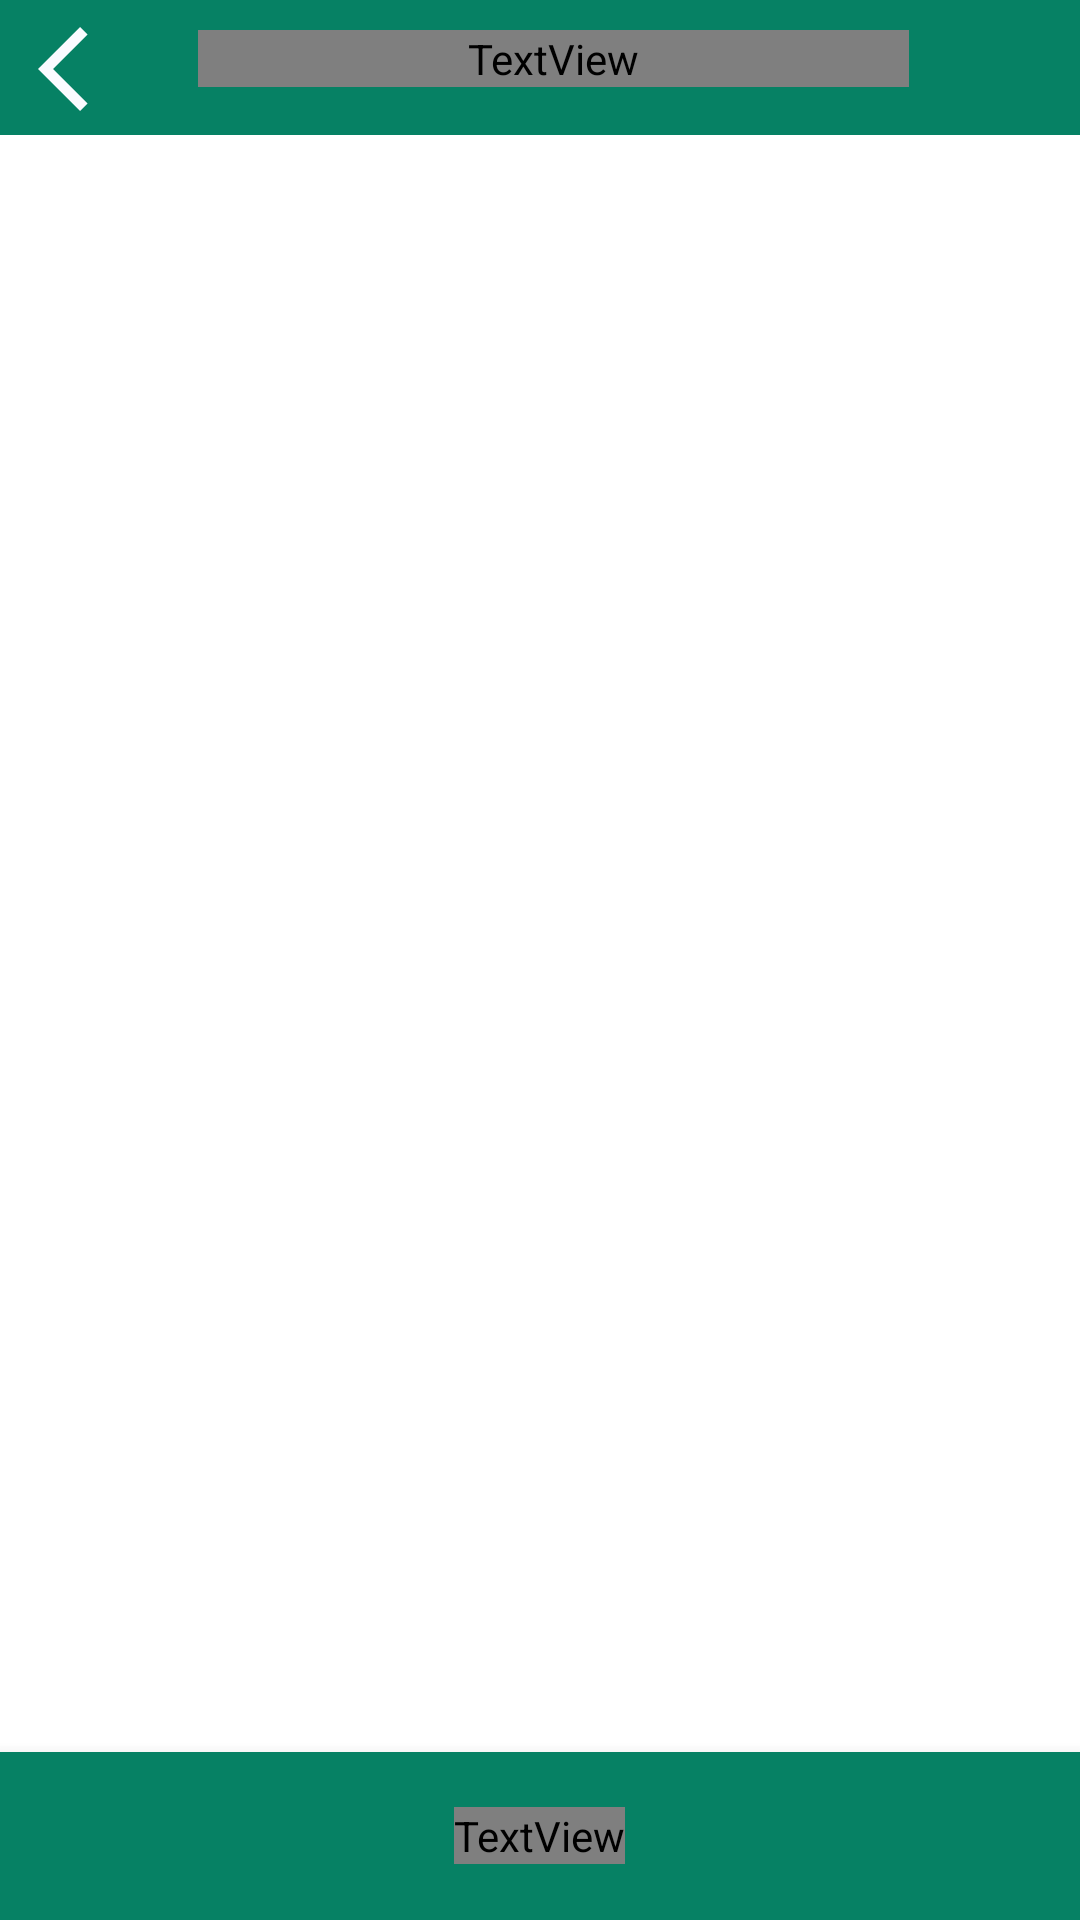

Screen size 1080×1920. Icon name, then its box in pixels as (left=x1, top=y1, right=x2, bottom=y2):
back: (left=38, top=27, right=88, bottom=111)
